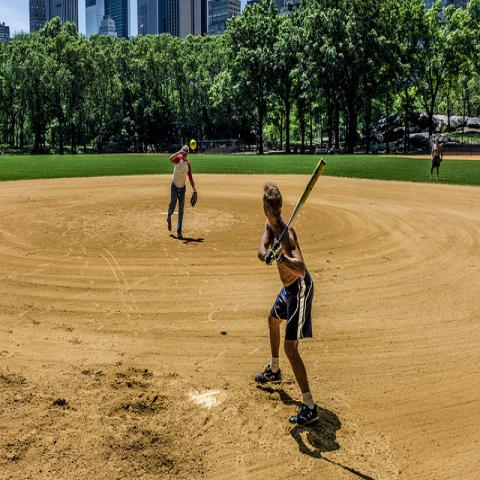car: (466, 120, 479, 131)
